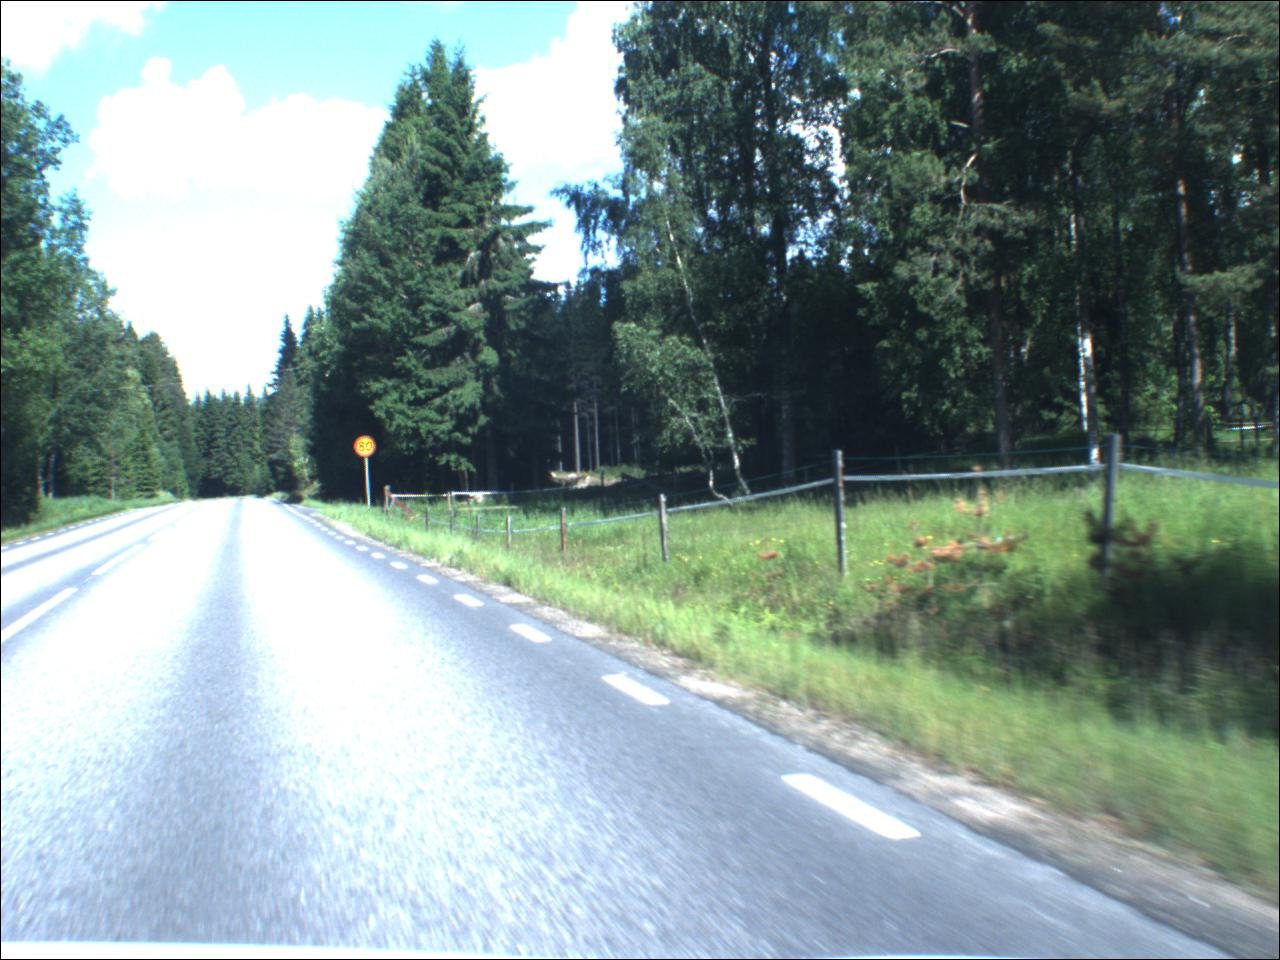80_SIGN: (355, 436, 380, 459)
